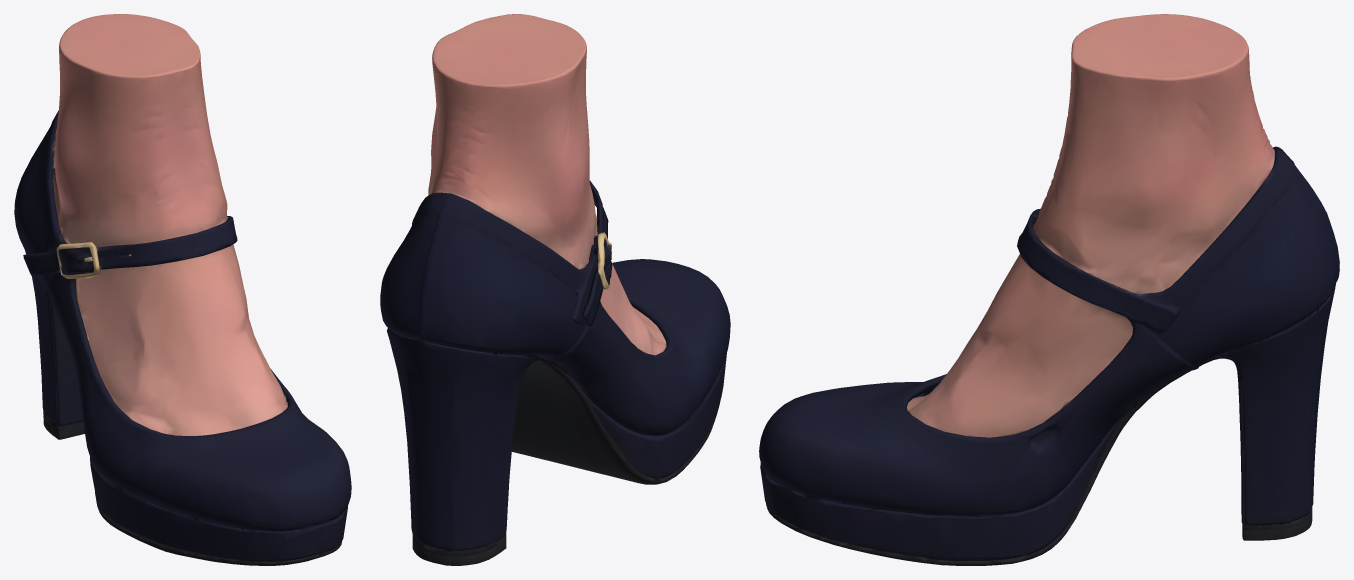
Rendered from navy_mary_jane_original.glb.
3 views of the same model, side by side, from view 1: azimuth 30°, elevation 25°; view 2: azimuth 150°, elevation 25°; view 3: azimuth 270°, elevation 25° (orthographic). The views are drawn at different scales.
Parts seen in each view (by area): view 1: tripo_node_382081ad-af76-4dc4-8c96-9b2ac6c95e8e; view 2: tripo_node_382081ad-af76-4dc4-8c96-9b2ac6c95e8e; view 3: tripo_node_382081ad-af76-4dc4-8c96-9b2ac6c95e8e.
Boxes of the visible parts, box(x1,y1,x2,y2) form: tripo_node_382081ad-af76-4dc4-8c96-9b2ac6c95e8e: box(14, 14, 351, 565); tripo_node_382081ad-af76-4dc4-8c96-9b2ac6c95e8e: box(380, 14, 730, 565); tripo_node_382081ad-af76-4dc4-8c96-9b2ac6c95e8e: box(759, 14, 1339, 565).
Bounding box in the file's own units: 0.4042 × 0.8864 × 0.9806.
Materials: 1 (1 with a texture image).
